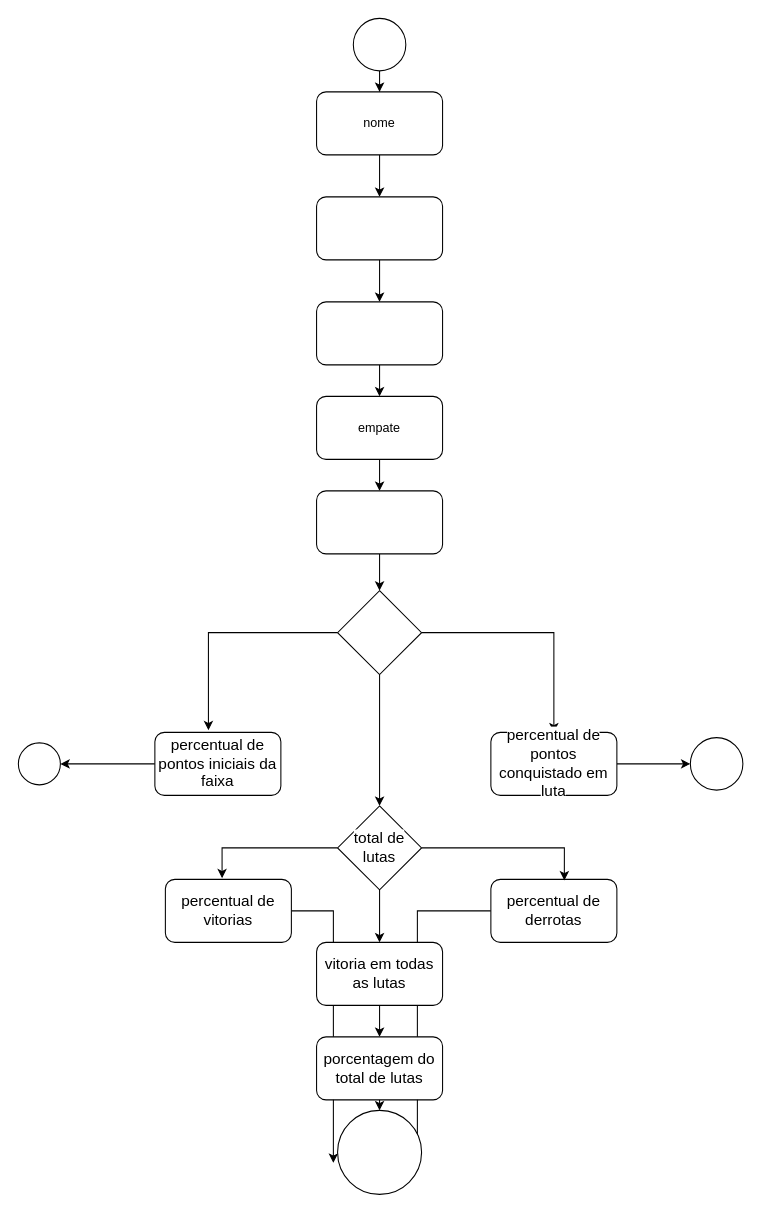
This 761x1213 diagram has some shape labels left out. The box of each missing label's shape, as (x1, y1, x2, y2) in pixels:
derrota: (316, 490, 443, 554)
faixa: (316, 196, 443, 260)
pontos que tem: (337, 590, 422, 675)
vitorias: (316, 301, 443, 365)
